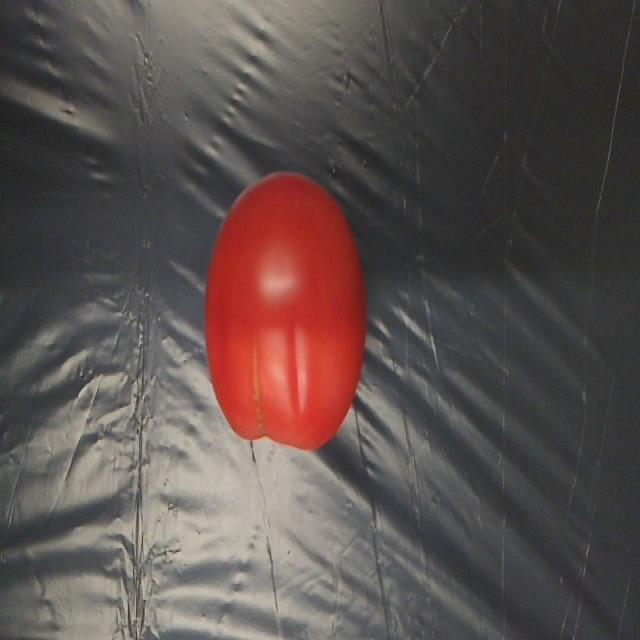kirmizi: (188, 164, 382, 449)
